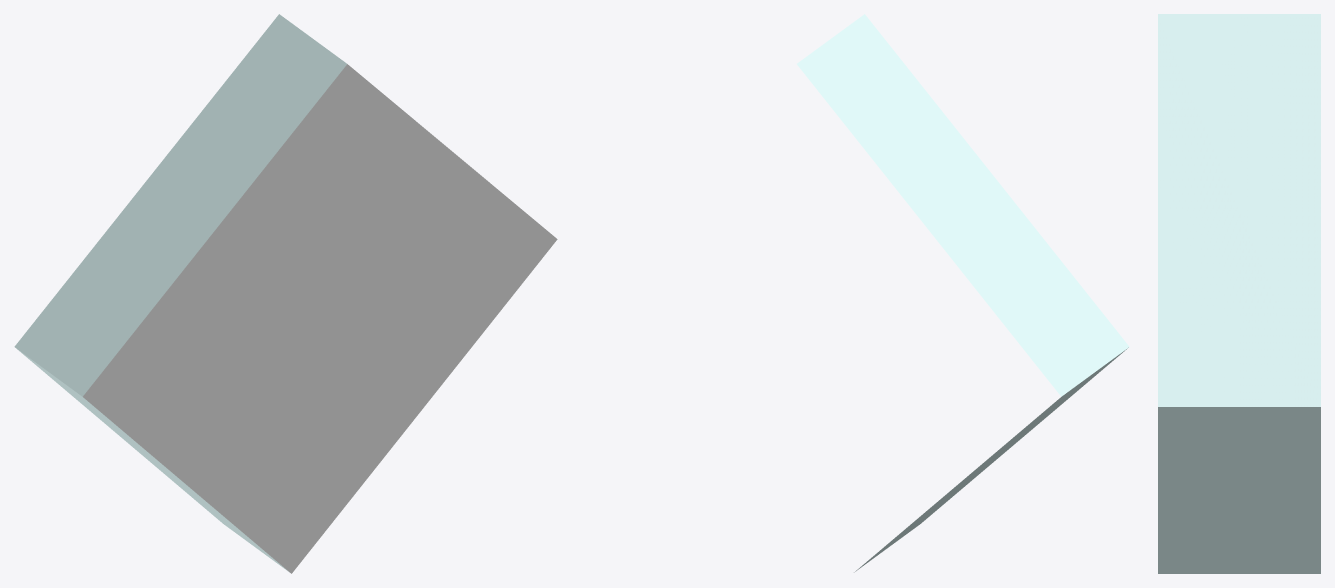
The picture shows the model from 3 angles, left to right: view 1: azimuth 30°, elevation 25°; view 2: azimuth 150°, elevation 25°; view 3: azimuth 270°, elevation 25°; orthographic projection. The views are drawn at different scales.
Parts seen in each view (by area): view 1: 0_2_3_3_3_1_3_1_3; view 2: 0_2_3_3_3_1_3_1_3; view 3: 0_2_3_3_3_1_3_1_3.
Part boxes in pixels (x1,y1,x2,y2): 0_2_3_3_3_1_3_1_3: [14, 14, 557, 573]; 0_2_3_3_3_1_3_1_3: [797, 14, 1129, 572]; 0_2_3_3_3_1_3_1_3: [1158, 14, 1320, 573].
Size of the model in its own units: 12.05 by 12.03 by 3.
